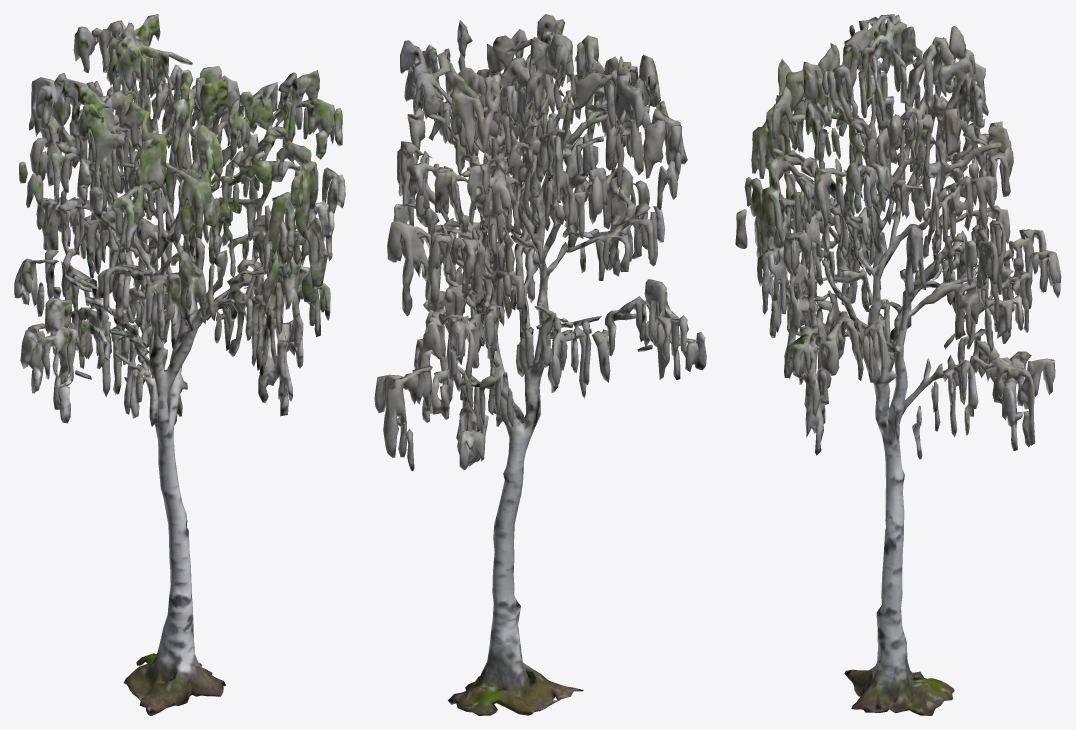
File: AI_WhiteBirch01.fbx
3 views of the same model, side by side, from view 1: azimuth 30°, elevation 25°; view 2: azimuth 150°, elevation 25°; view 3: azimuth 270°, elevation 25° (orthographic). The views are drawn at different scales.
Visible parts, largest first — view 1: Mesh1.0; view 2: Mesh1.0; view 3: Mesh1.0.
Part boxes in pixels (x1=…): Mesh1.0: x1=14, y1=14, x2=345, y2=715; Mesh1.0: x1=374, y1=14, x2=706, y2=715; Mesh1.0: x1=735, y1=14, x2=1061, y2=715.
Bounding box in the file's own units: 91.3 × 201 × 90.44.
1 material, 1 textured.
